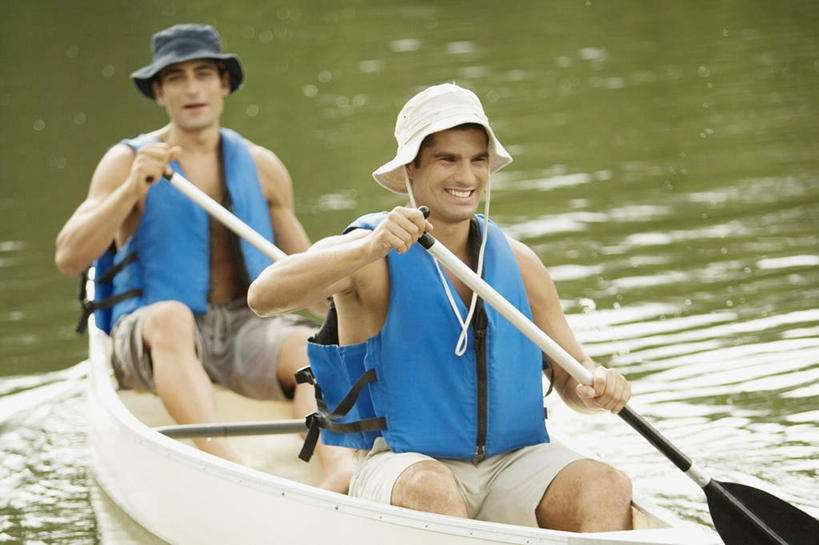reflective_clothes: (305, 196, 566, 465), (82, 121, 292, 339)
